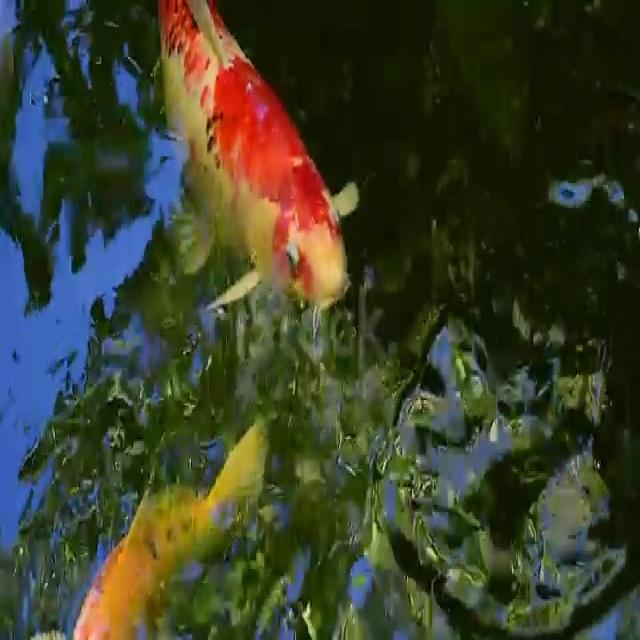fish: (156, 0, 368, 319), (66, 419, 276, 640)
